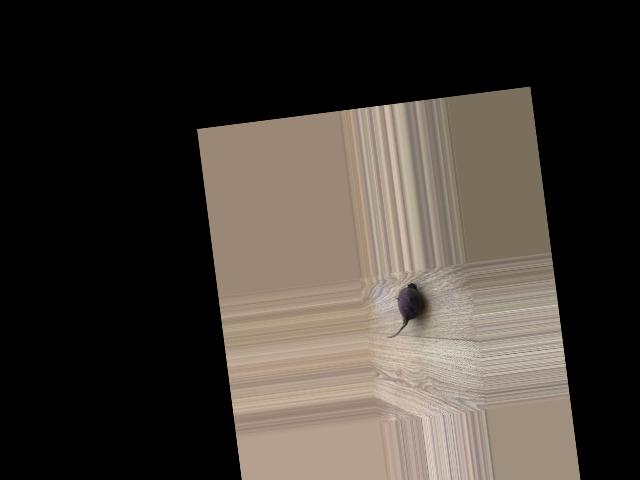beet: (381, 283, 426, 339)
